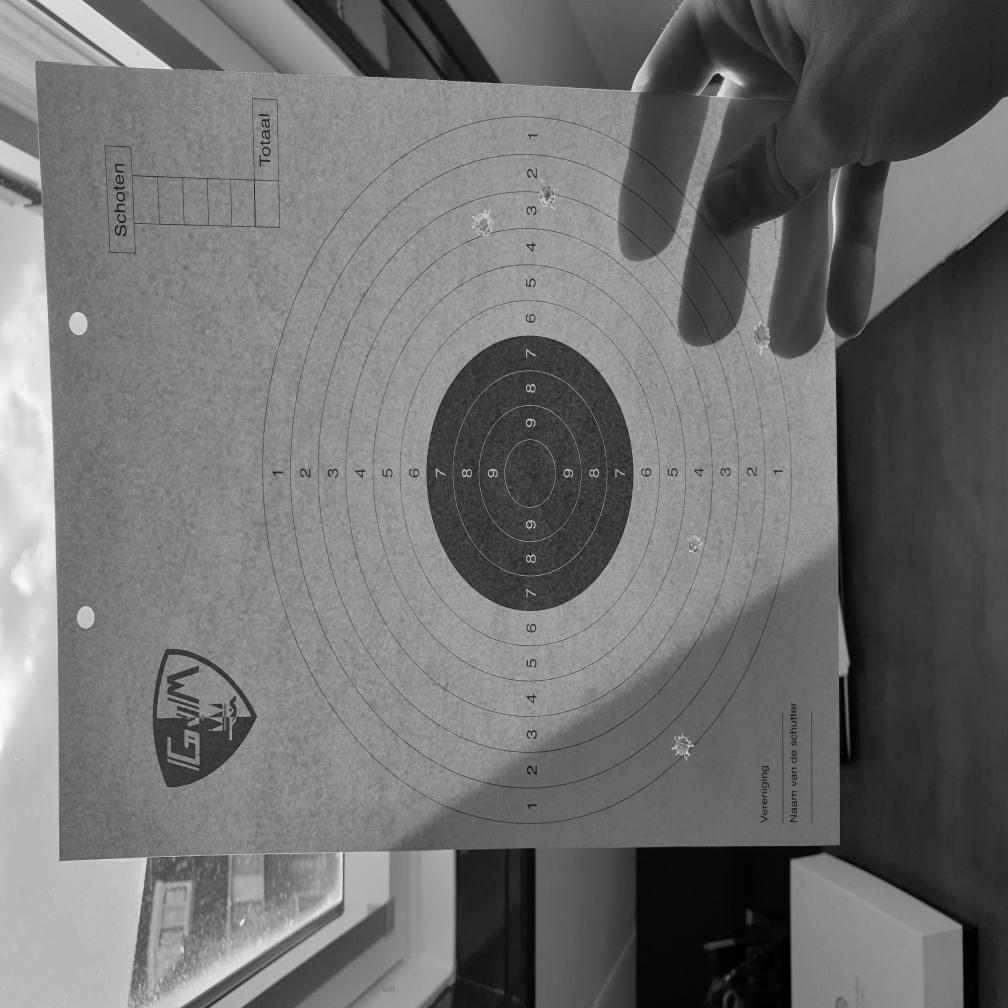1: (753, 321, 771, 356), (672, 734, 694, 760)
3: (538, 182, 559, 210)
4: (472, 208, 492, 237), (687, 536, 702, 553)
Target: (260, 109, 796, 828)
black_contour: (427, 336, 633, 610)
